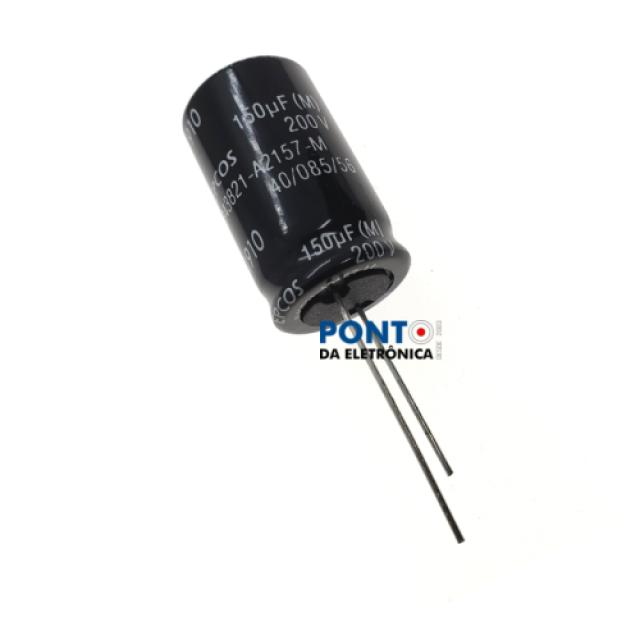Capacitor: (182, 58, 413, 337), (364, 351, 462, 535)
